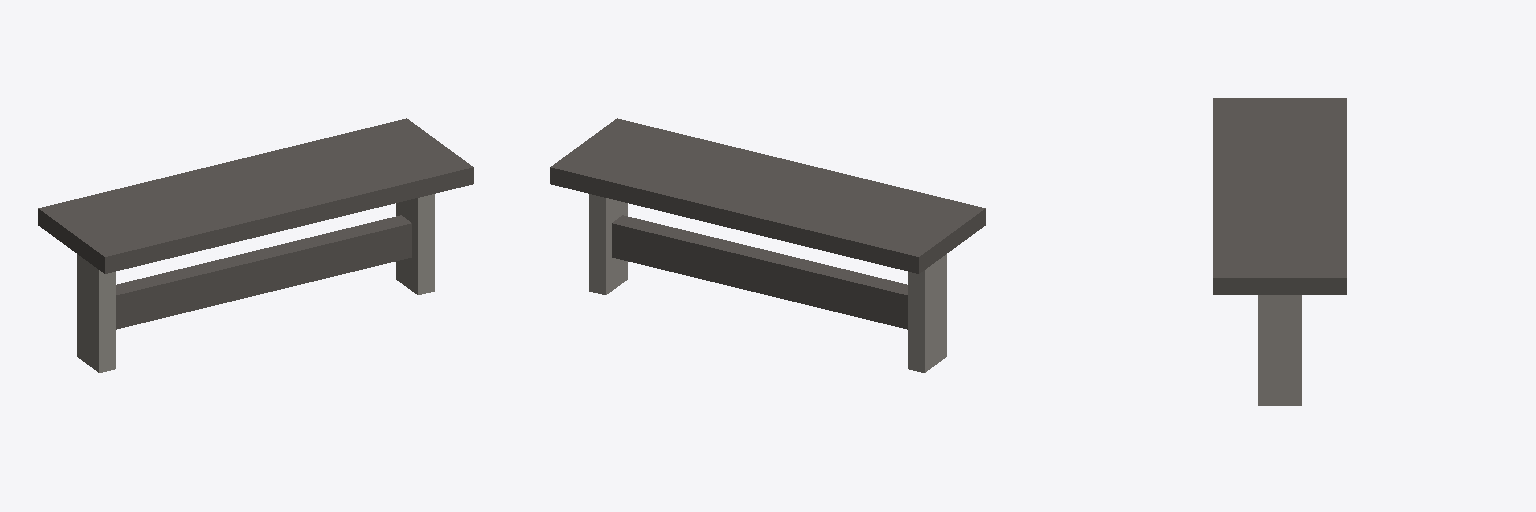
File: Workbench.obj
3 renders of one model, left to right at view 1: azimuth 30°, elevation 25°; view 2: azimuth 150°, elevation 25°; view 3: azimuth 270°, elevation 25°, orthographic.
Visible parts, largest first — view 1: mergedBlocks; view 2: mergedBlocks; view 3: mergedBlocks.
Boxes of the visible parts, box(x1,y1,x2,y2) form: mergedBlocks: box(38, 118, 473, 372); mergedBlocks: box(550, 118, 985, 372); mergedBlocks: box(1213, 98, 1346, 405).
Size of the model in its own units: 2.93 by 1.03 by 0.9173.